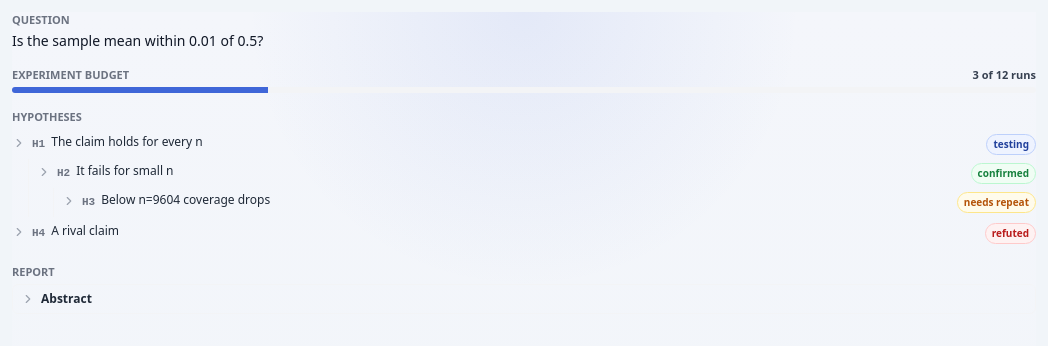
Scenario: LabView › keeps report sections collapsed until opened
Check: the text "We tested the claim." is not shown
Click the button "Abstract".
click(66, 298)  # box [13,285,1035,313]
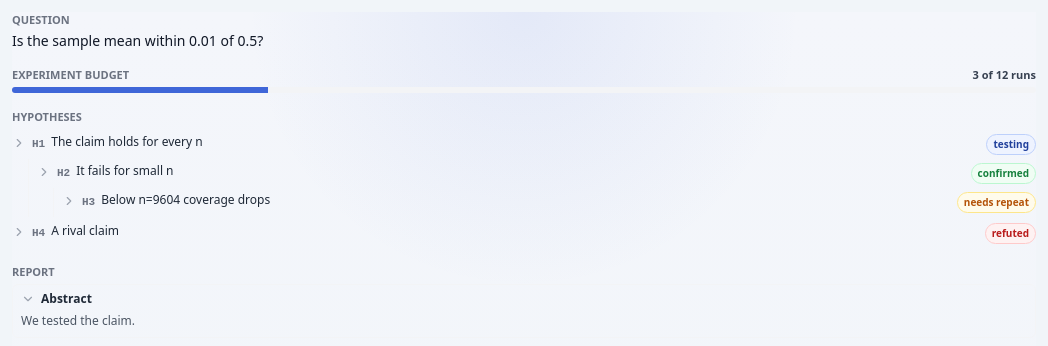
Check: the text "We tested the claim." is shown, box [21,312,135,329]
